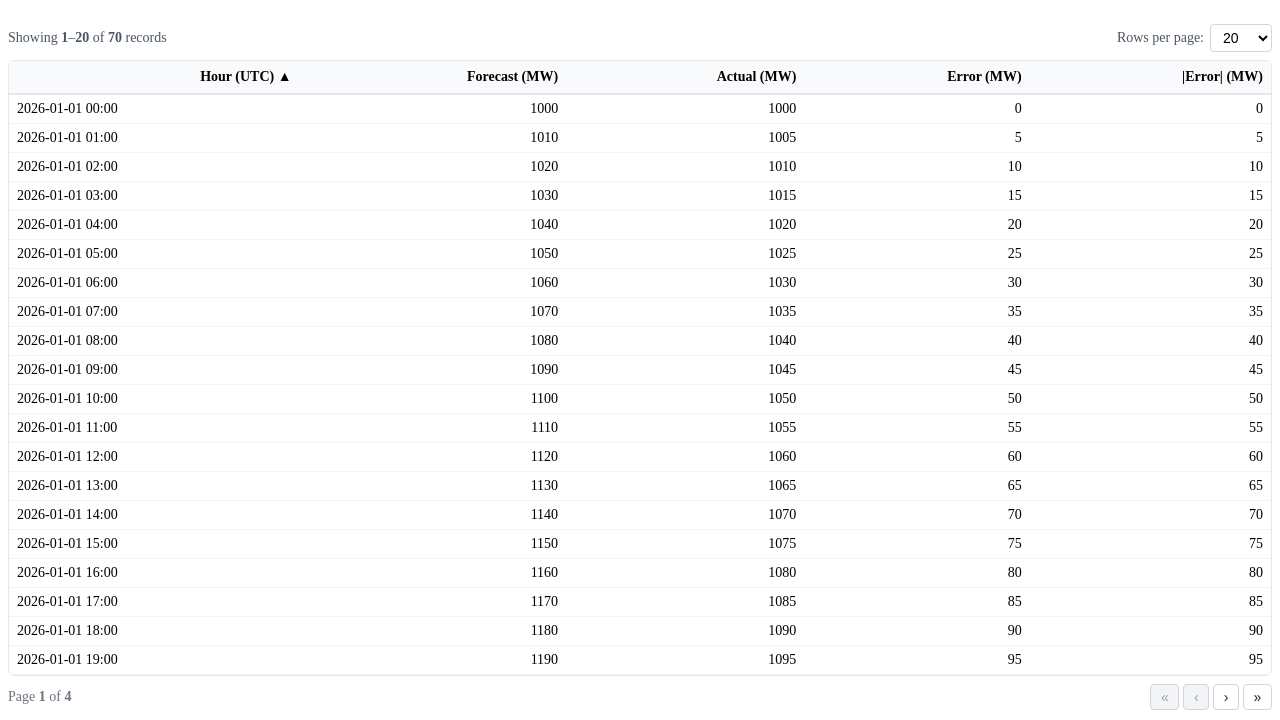
Test: IntervalTable with Pagination › sorts records globally across all pages before paginating
Note: Click "|Error| (MW)" to sort ascending
Click the column heading "|Error| (MW)" at (1223, 76), box [1030, 61, 1271, 94]
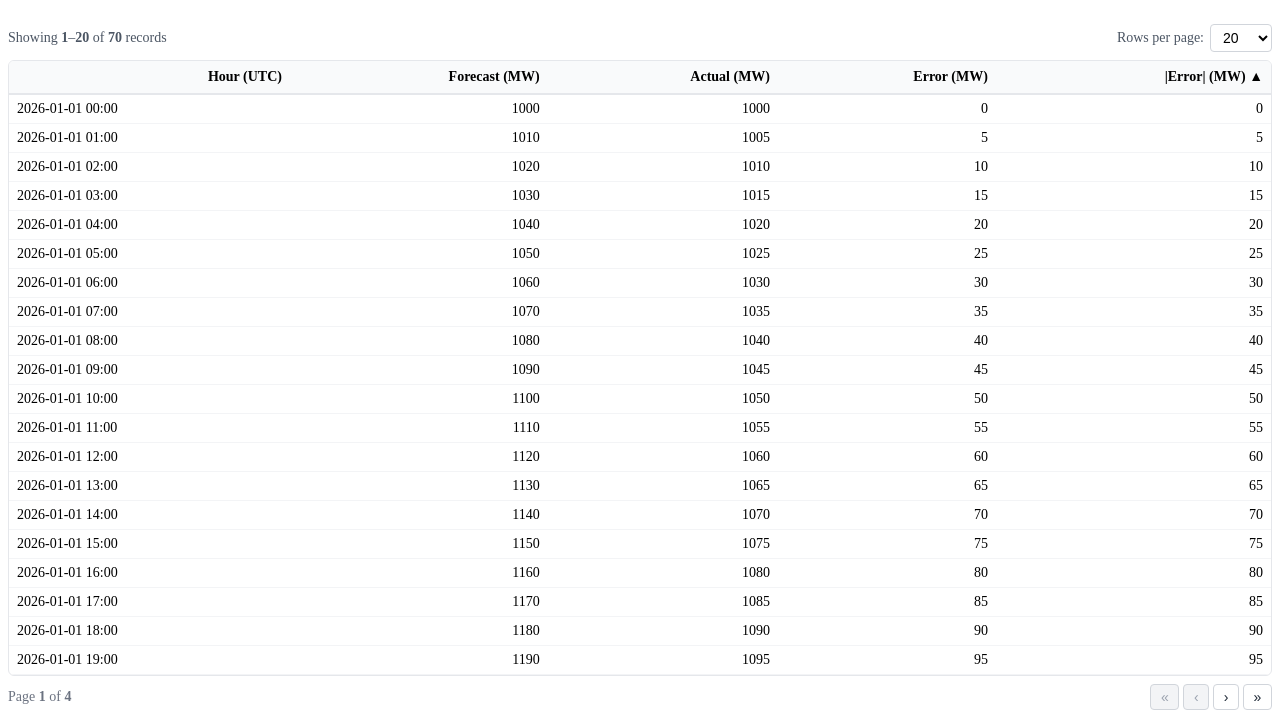
Expected: the row "2026-01-01 00:00 1000 1000 0 0" is shown, [9, 94, 1271, 124]
Note: Click again to sort descending
Click the column heading "|Error| (MW) ▲" at (1205, 76), box [996, 61, 1271, 94]
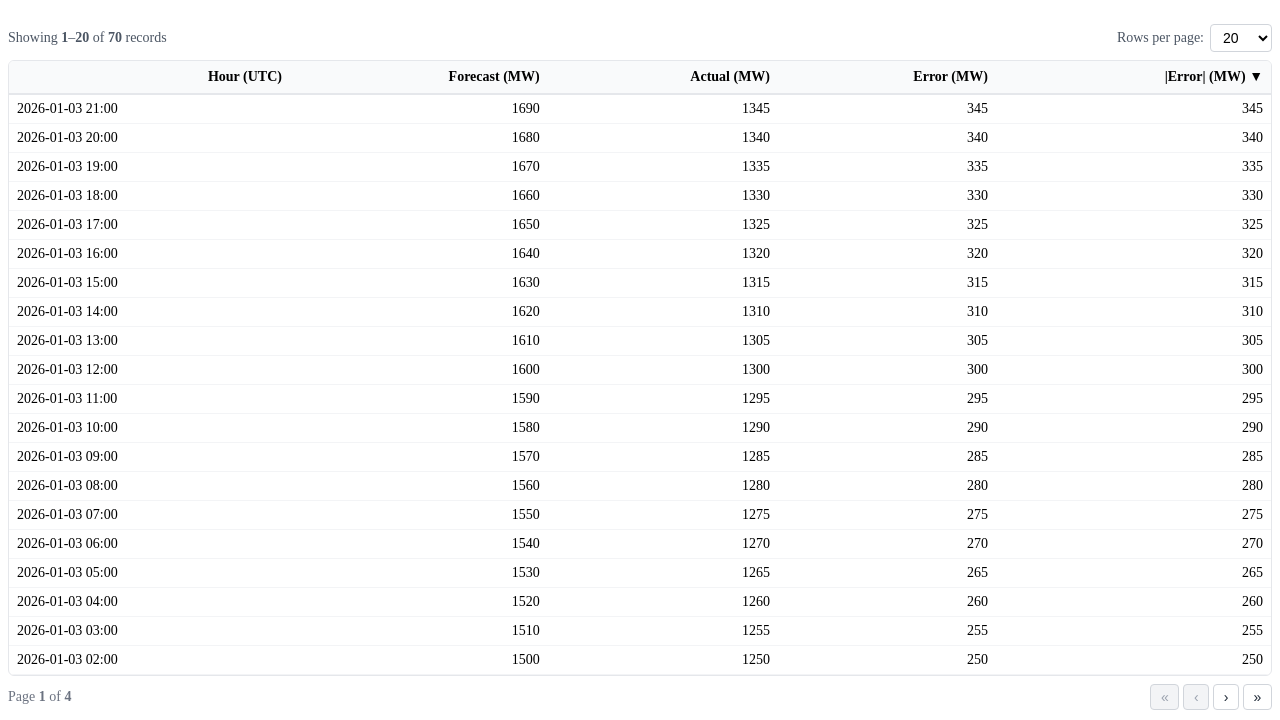
Expected: the row "2026-01-03 21:00 1690 1345 345 345" is shown, [9, 94, 1271, 124]
